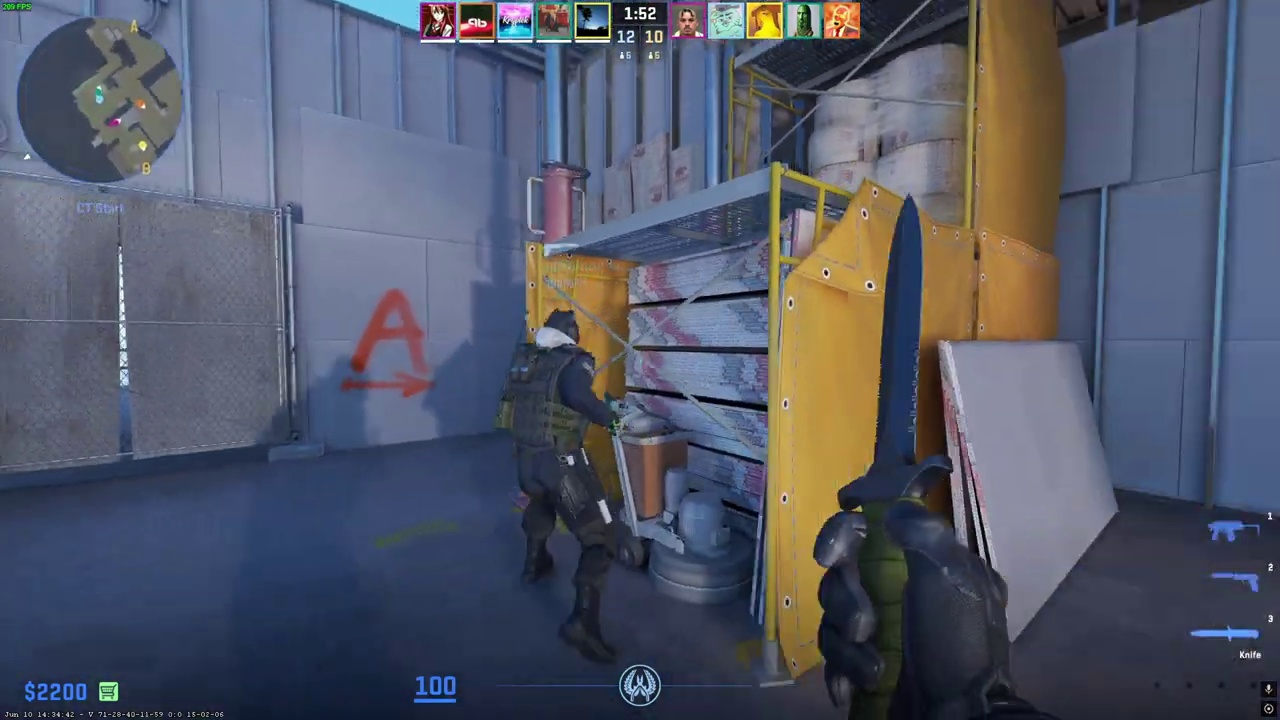CT: (506, 309, 627, 658)
